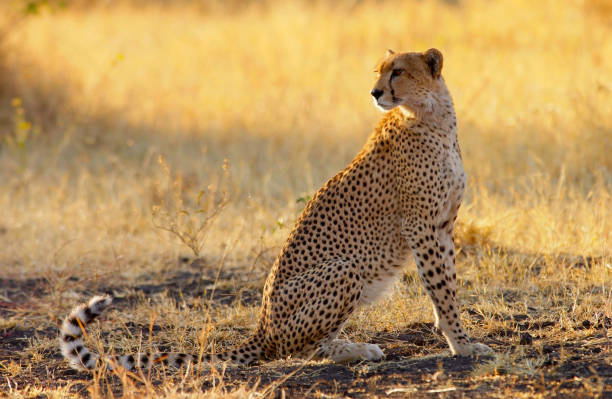cheetah: (355, 45, 455, 118)
